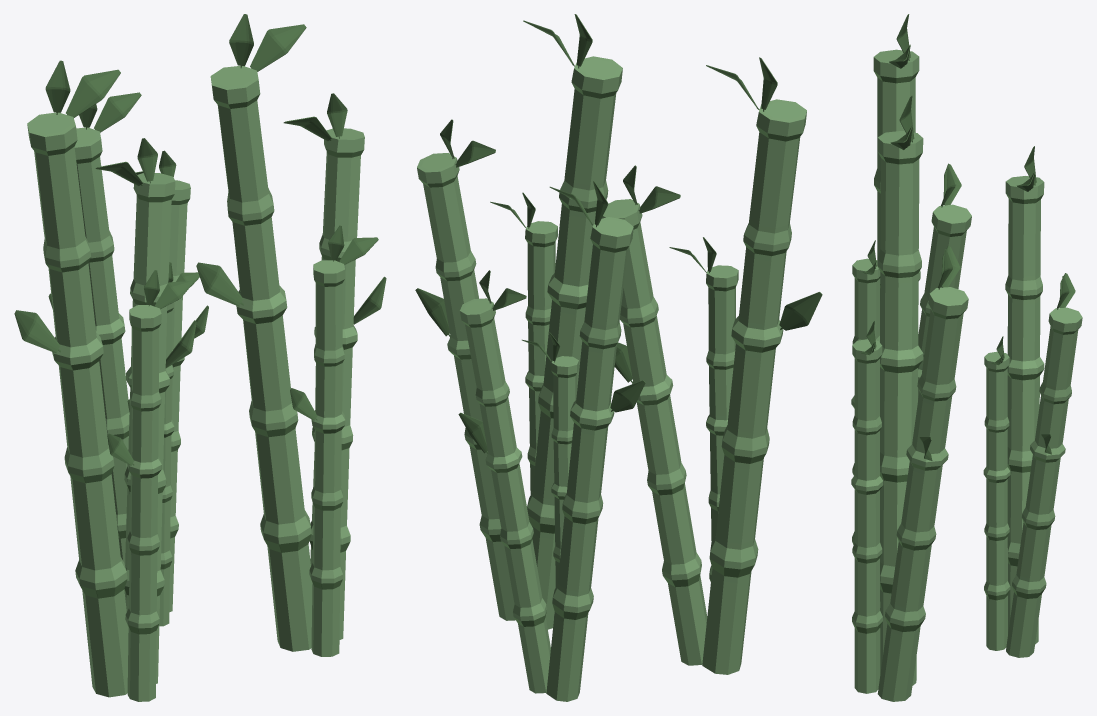
The model's file is bambu.fbx.
3 renders of one model, left to right at view 1: azimuth 30°, elevation 25°; view 2: azimuth 150°, elevation 25°; view 3: azimuth 270°, elevation 25°, orthographic. The views are drawn at different scales.
Parts seen in each view (by area): view 1: Bambu.001; view 2: Bambu.001; view 3: Bambu.001.
Boxes of the visible parts, <box> form: Bambu.001: <box>14,14,386,701</box>; Bambu.001: <box>415,14,822,701</box>; Bambu.001: <box>851,14,1082,701</box>.
Bounding box in the file's own units: 69.32 × 107 × 39.41.
